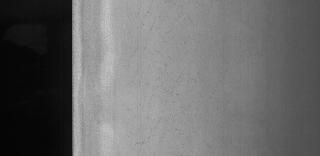silk spot: (133, 7, 195, 156)
